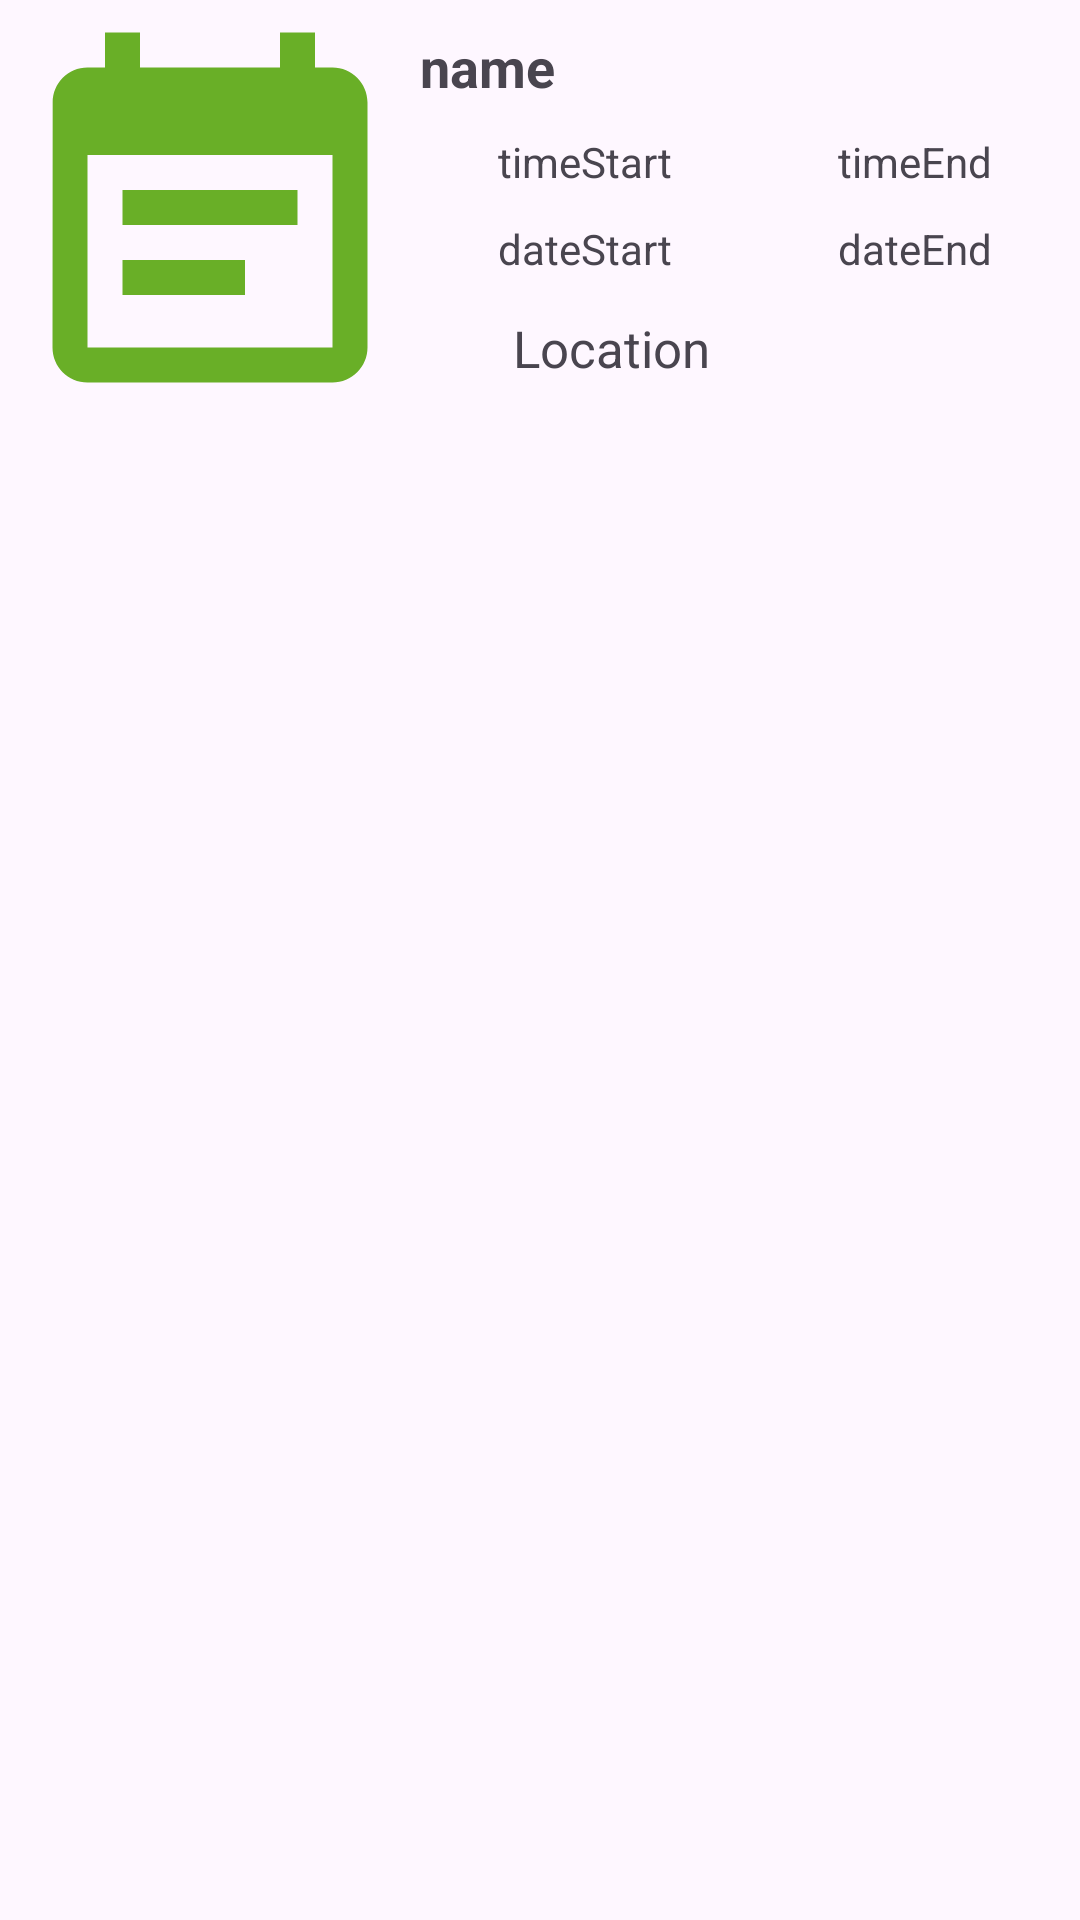

Where to tap for icons on this 1080w x 1920h app screen, as [x,y]:
event: [210,207]
